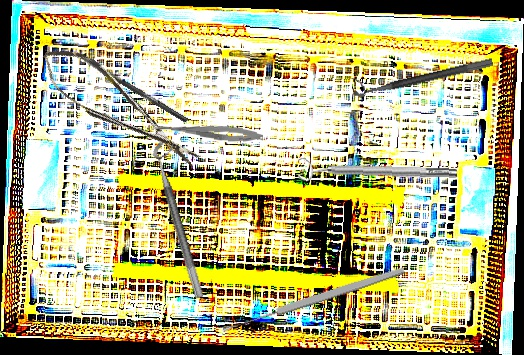Fixation Ring: (150, 137, 217, 300), (350, 46, 494, 99), (297, 156, 458, 187)
Micro Scissor: (32, 33, 207, 185), (150, 121, 264, 144)
Surgical Spoon: (220, 264, 407, 335), (74, 51, 189, 123)
